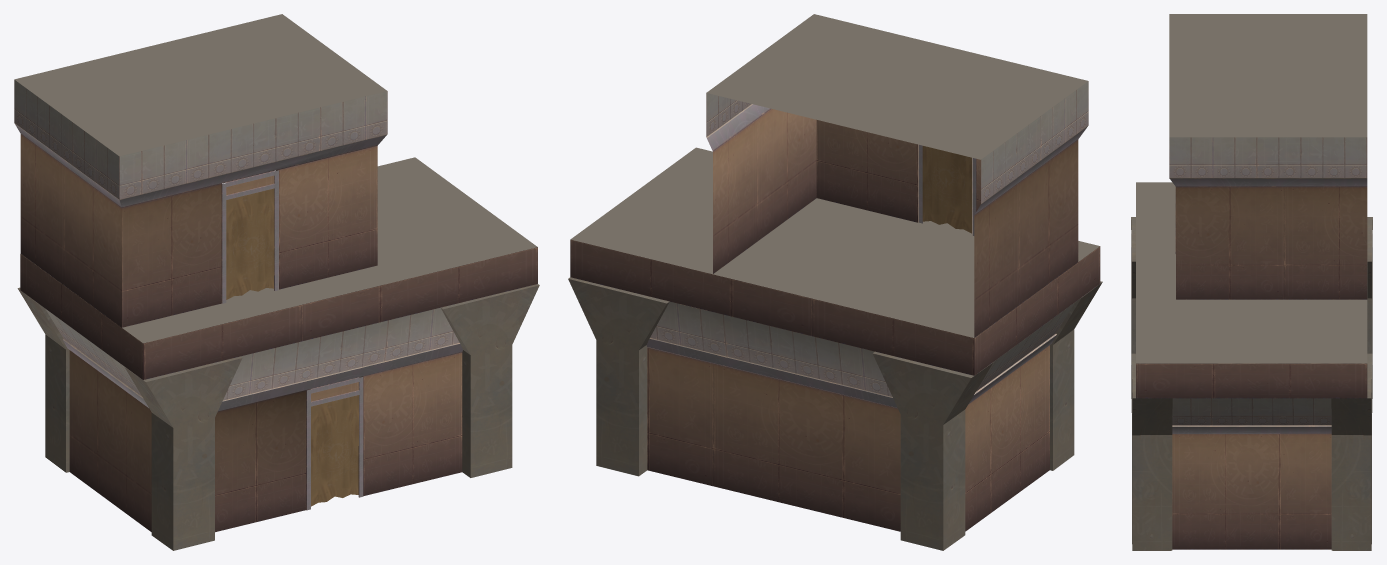
Rendered from Building_House B.fbx.
The picture shows the model from 3 angles, left to right: view 1: azimuth 30°, elevation 25°; view 2: azimuth 150°, elevation 25°; view 3: azimuth 270°, elevation 25°; orthographic projection. The views are drawn at different scales.
Parts seen in each view (by area): view 1: Building_House B; view 2: Building_House B; view 3: Building_House B.
Part boxes in pixels (left/top/right/bottom): Building_House B: left=14, top=14, right=539, bottom=550; Building_House B: left=568, top=14, right=1102, bottom=550; Building_House B: left=1131, top=14, right=1372, bottom=550.
Size of the model in its own units: 997 by 922 by 553.
